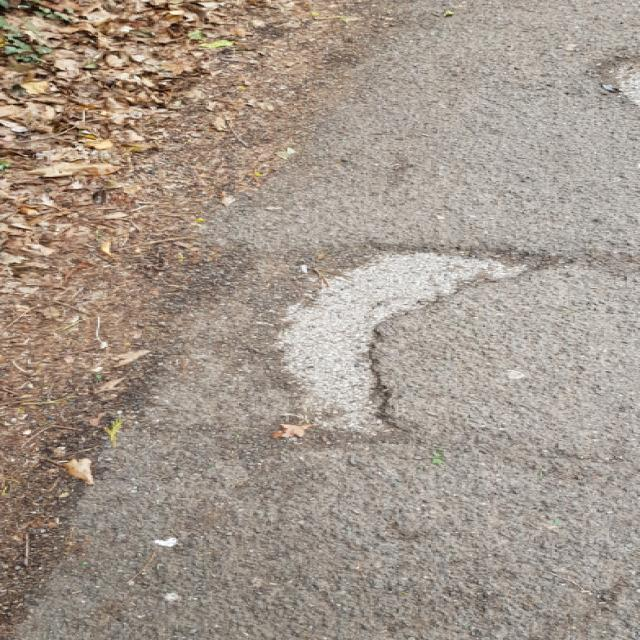pothole: (266, 238, 581, 443)
